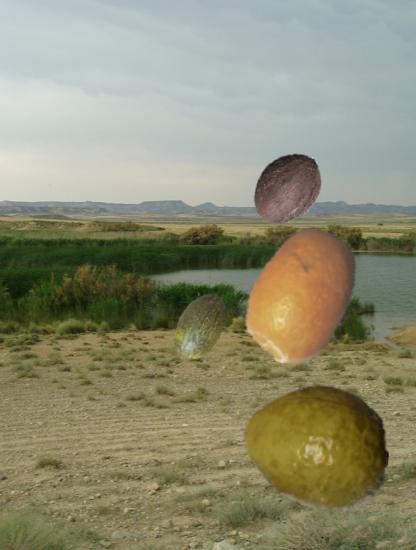Cocos: (249, 149, 328, 228)
Guava: (242, 373, 390, 521)
Kumquats: (233, 226, 374, 367)
Melon: (168, 292, 238, 362)
